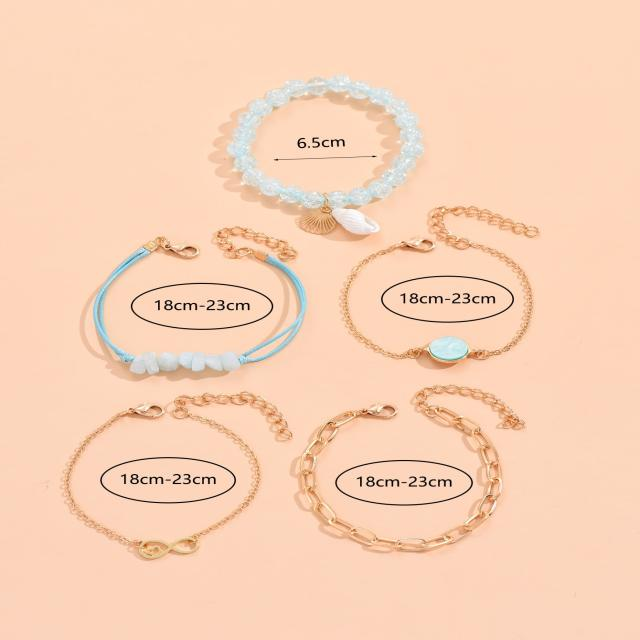bracelet: (0, 362, 289, 596), (327, 160, 563, 380), (300, 393, 508, 640), (59, 207, 344, 387), (176, 54, 430, 249)
